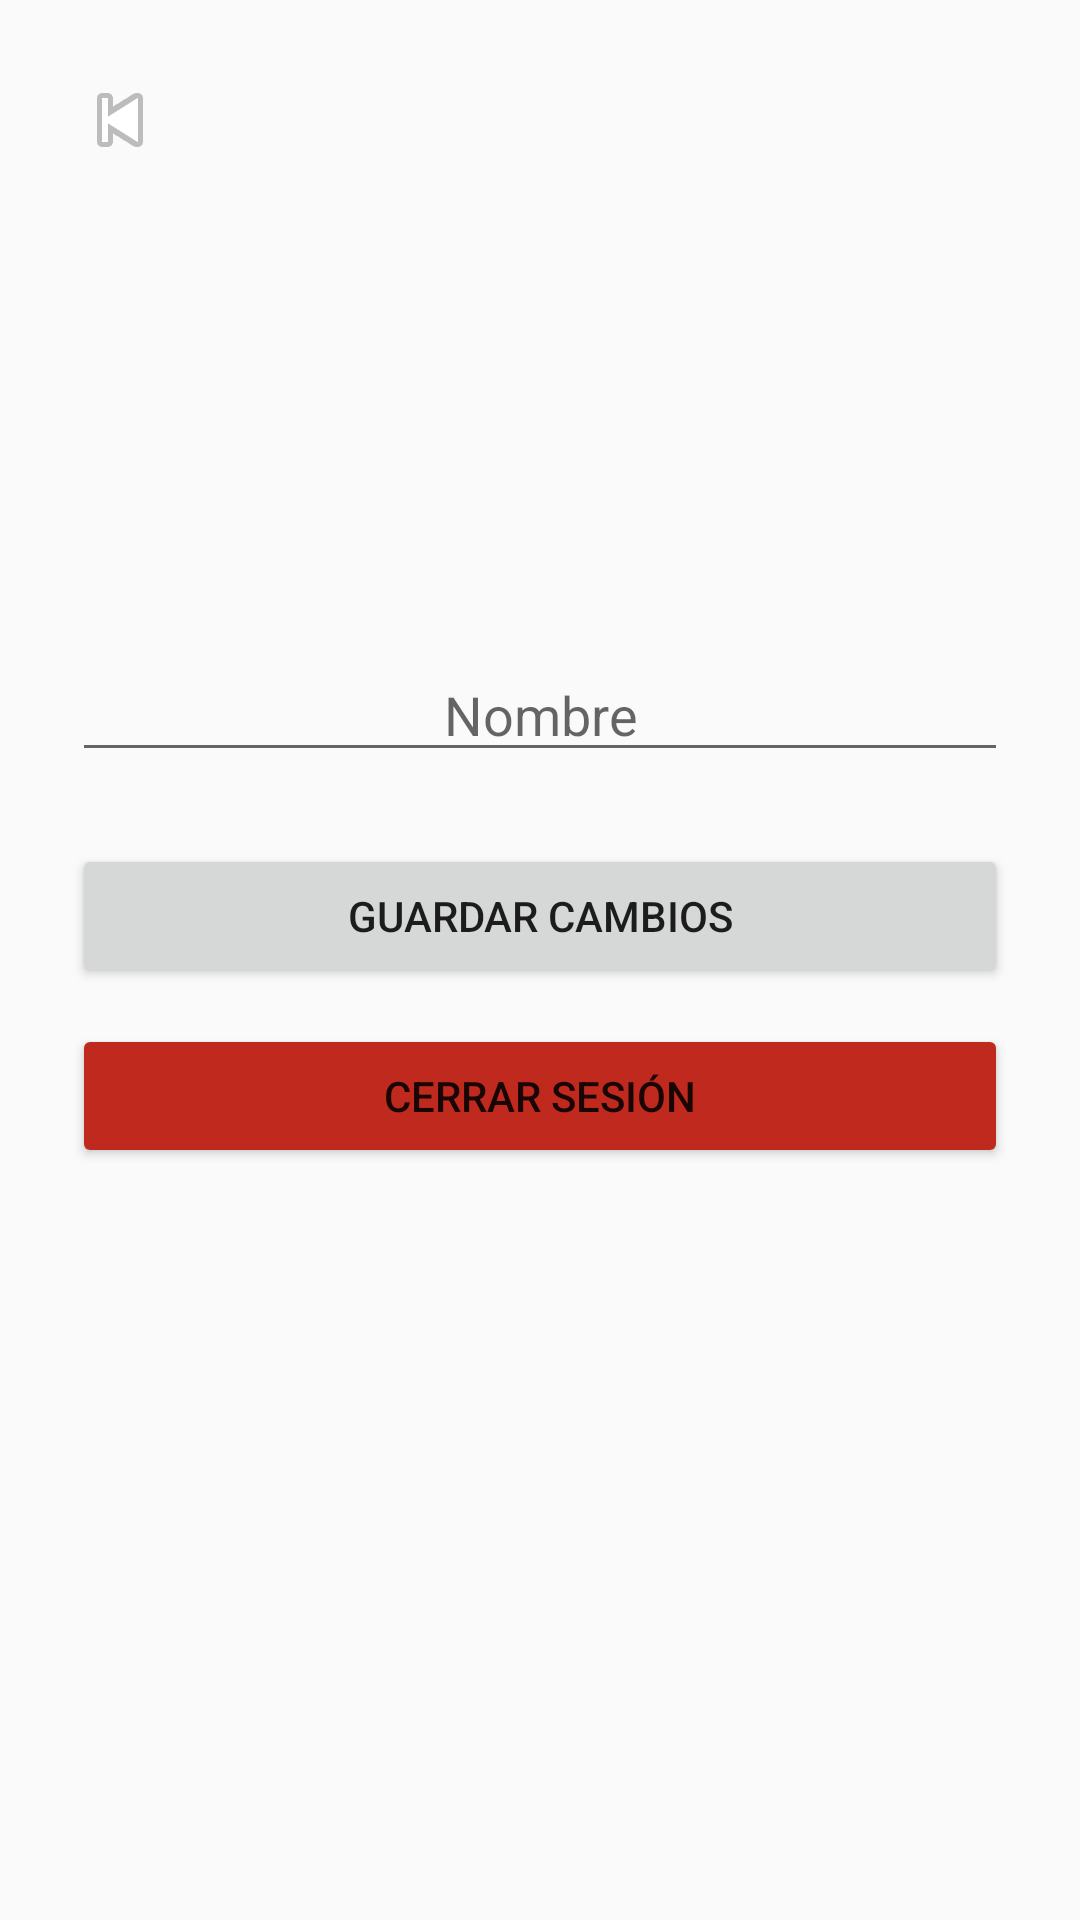

Named icons in this screenshot (1080px×1920px) and their bounding boxes, box(x1, y1, x2, y2):
Volver: box(97, 93, 143, 147)
